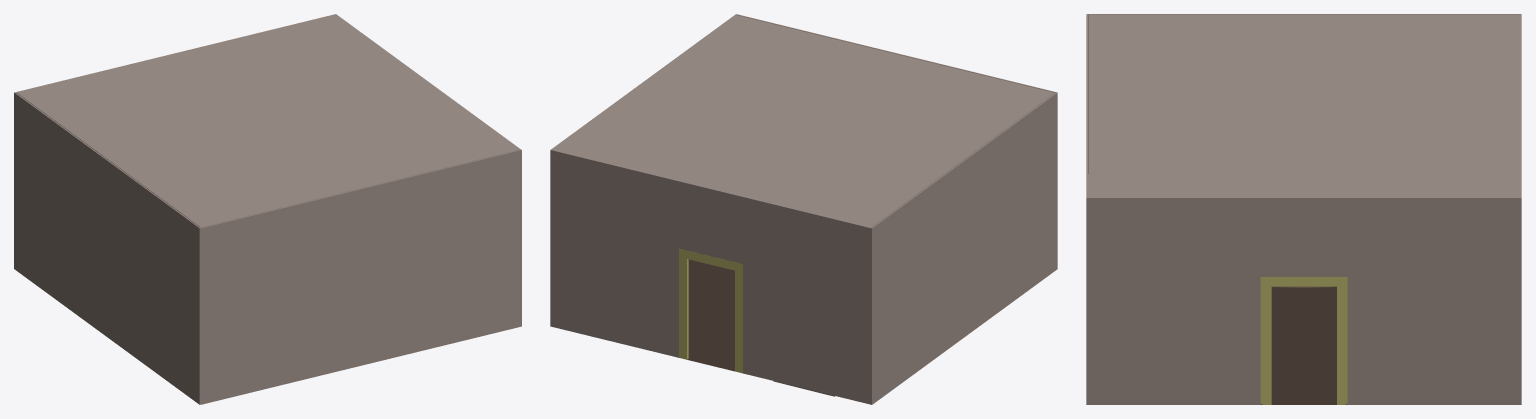
Rendered from Room17_DiningRoom.fbx.
The picture shows the model from 3 angles, left to right: view 1: azimuth 30°, elevation 25°; view 2: azimuth 150°, elevation 25°; view 3: azimuth 270°, elevation 25°; orthographic projection. The views are drawn at different scales.
Parts seen in each view (by area): view 1: Roof, WallPosZ, WallPosX, WallPosZ9, WallPosX18; view 2: Roof, WallSlicedNegZ, WallPosX, WallSlicedNegZ12, WallPosX18, Floor, DoorFrameNegZ, WallPosZ, WallSlicedNegX; view 3: Roof, WallSlicedNegX, WallSlicedNegX14, Floor, DoorFrameNegX, WallSlicedNegZ, WallPosZ, WallPosX.
Part boxes in pixels (box(x1,y1,x2,y2)): Roof: box(17, 15, 519, 227); WallPosZ: box(200, 149, 521, 364); WallPosX: box(14, 92, 200, 364); WallPosZ9: box(200, 286, 521, 404); WallPosX18: box(14, 229, 200, 404); Roof: box(552, 15, 1054, 227); WallSlicedNegZ: box(550, 150, 871, 364); WallPosX: box(871, 92, 1057, 364); WallSlicedNegZ12: box(550, 286, 871, 404); WallPosX18: box(870, 229, 1057, 404); Floor: box(679, 259, 742, 373); DoorFrameNegZ: box(679, 248, 742, 372); WallPosZ: box(736, 14, 1056, 92); WallSlicedNegX: box(550, 14, 736, 284); Roof: box(1088, 15, 1519, 197); WallSlicedNegX: box(1086, 197, 1521, 357); WallSlicedNegX14: box(1086, 357, 1521, 404); Floor: box(1260, 286, 1347, 404); DoorFrameNegX: box(1260, 277, 1347, 404); WallSlicedNegZ: box(1520, 14, 1521, 357); WallPosZ: box(1086, 14, 1087, 357); WallPosX: box(1087, 14, 1521, 174).
Size of the model in its own units: 801 by 426 by 801.
